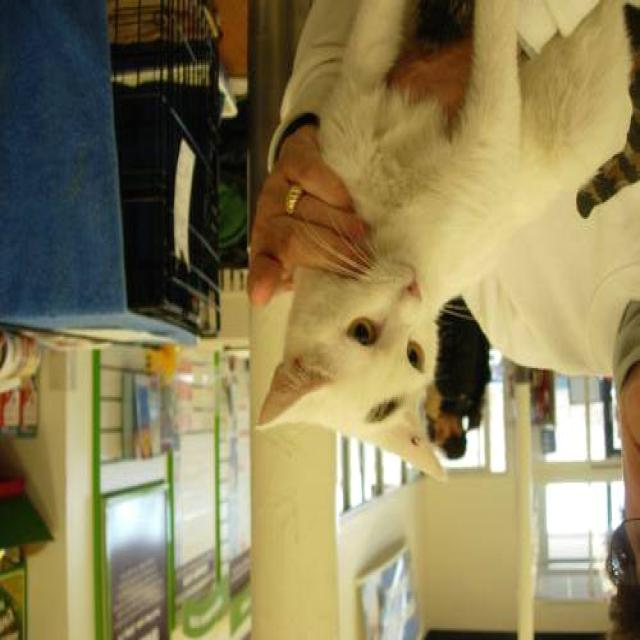Kucing: (257, 54, 543, 507)
